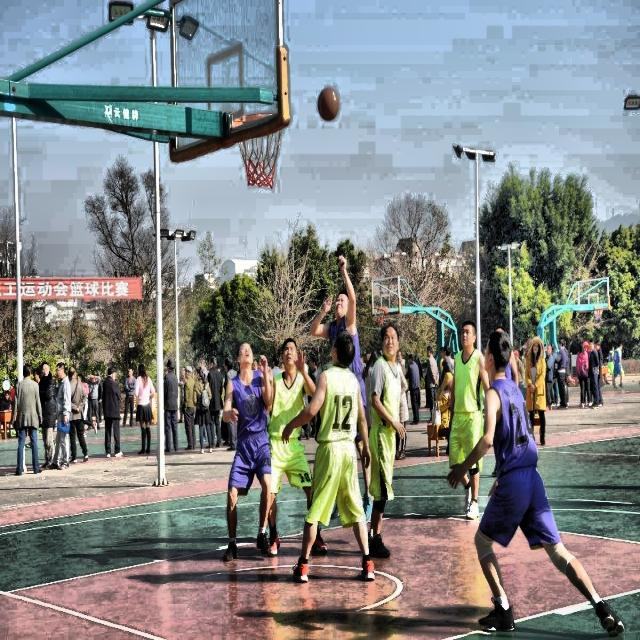board: (318, 86, 340, 121)
